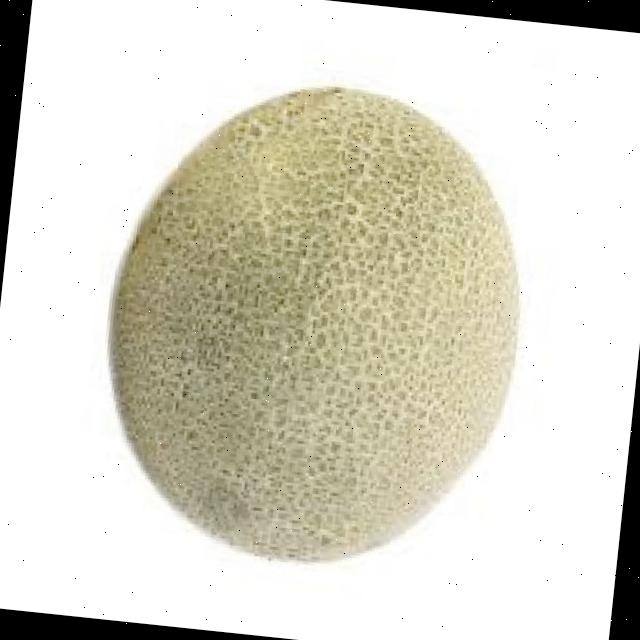Hami Melon: (89, 62, 546, 576)
